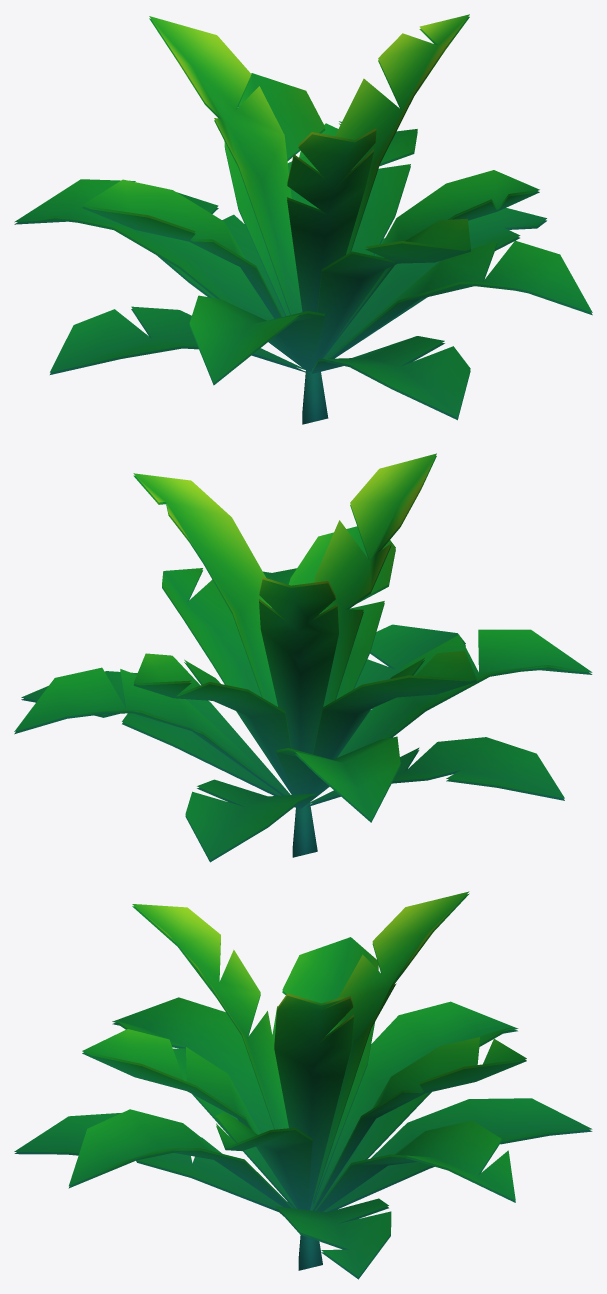
The model's file is Fern_3B.fbx.
3 renders of one model, top to bottom at view 1: azimuth 30°, elevation 25°; view 2: azimuth 150°, elevation 25°; view 3: azimuth 270°, elevation 25°, orthographic. The views are drawn at different scales.
Visible parts, largest first — view 1: Fern_3B; view 2: Fern_3B; view 3: Fern_3B.
Part boxes in pixels (x1,y1,x2,y2): Fern_3B: (14, 14, 592, 424); Fern_3B: (14, 453, 592, 862); Fern_3B: (14, 891, 592, 1279).
Bounding box in the file's own units: 172 × 111 × 171.
